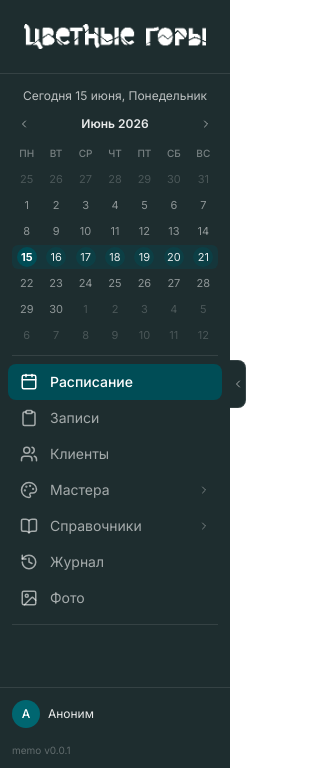
MiniCalendar — URL-driven navigator (#138 T4) › month arrows page the grid locally without touching the URL
Click the button named "Следующий месяц" at (206, 124), box [194,112,218,136]
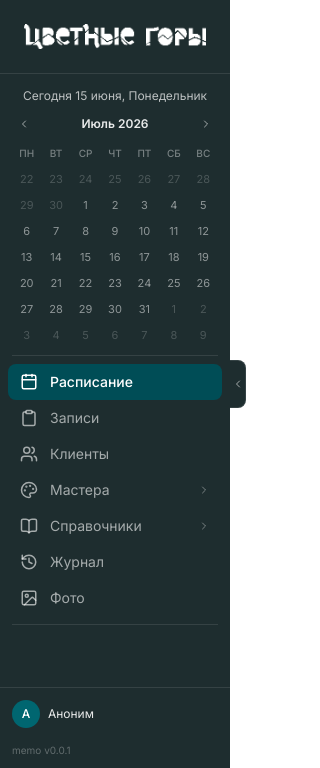
Expected: the button "Июль 2026" is shown, [82,116,149,132]
Click the button named "Предыдущий месяц" at (24, 124), box [12,112,36,136]
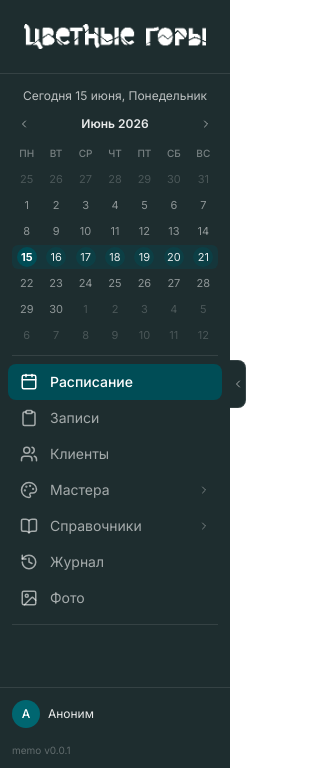
Click the button named "Предыдущий месяц" at (24, 124), box [12,112,36,136]
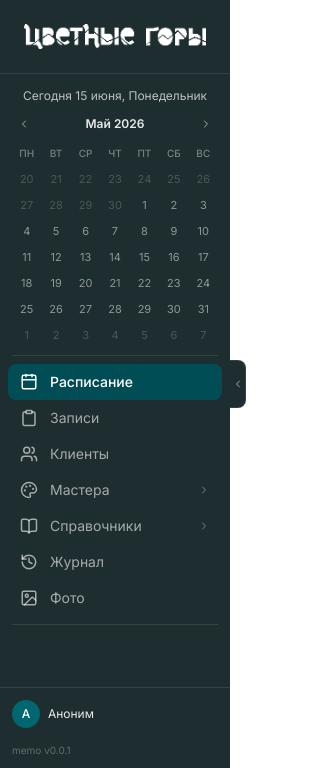
Expected: the button "Май 2026" is shown, [86,116,144,132]
